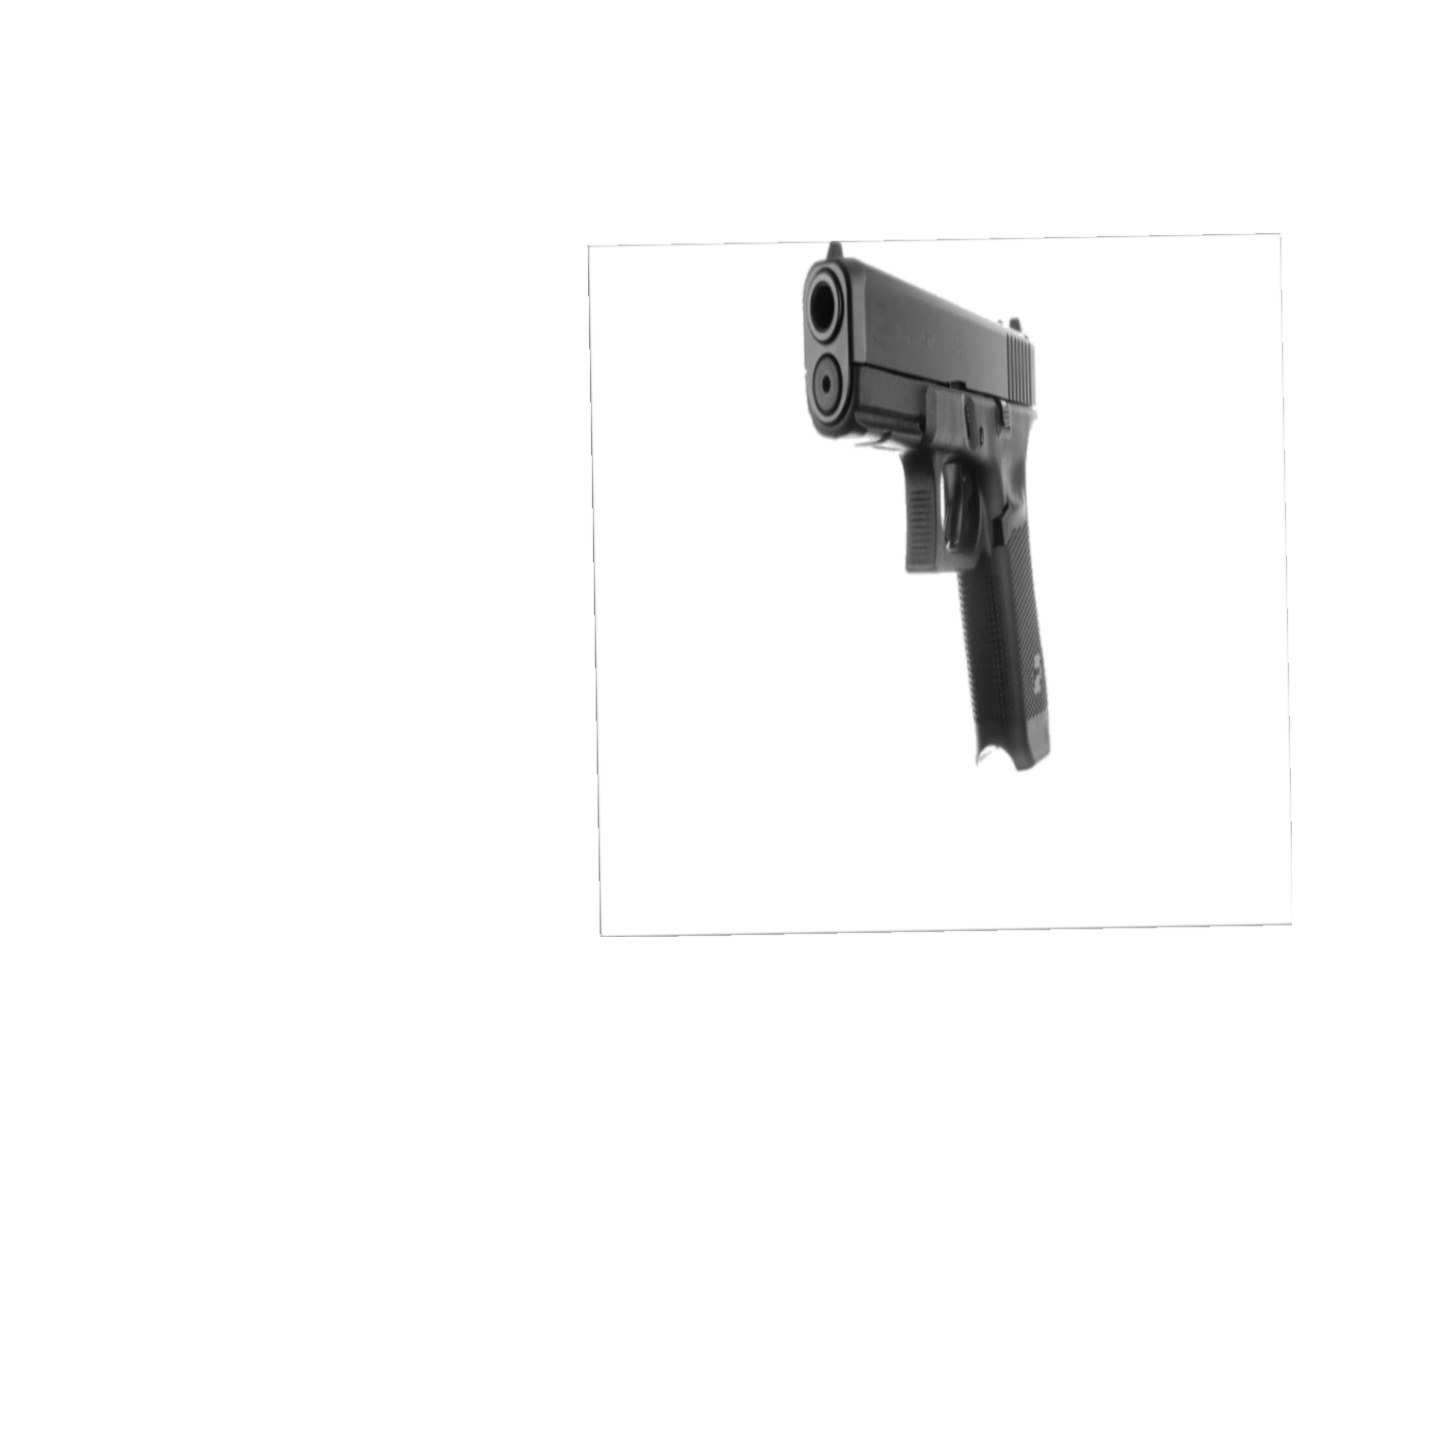gun: (786, 238, 1082, 780)
